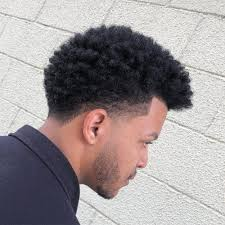black_male: (43, 32, 185, 198)
